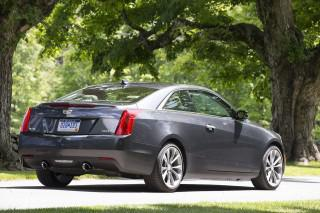cadillac: (60, 107, 74, 116)
